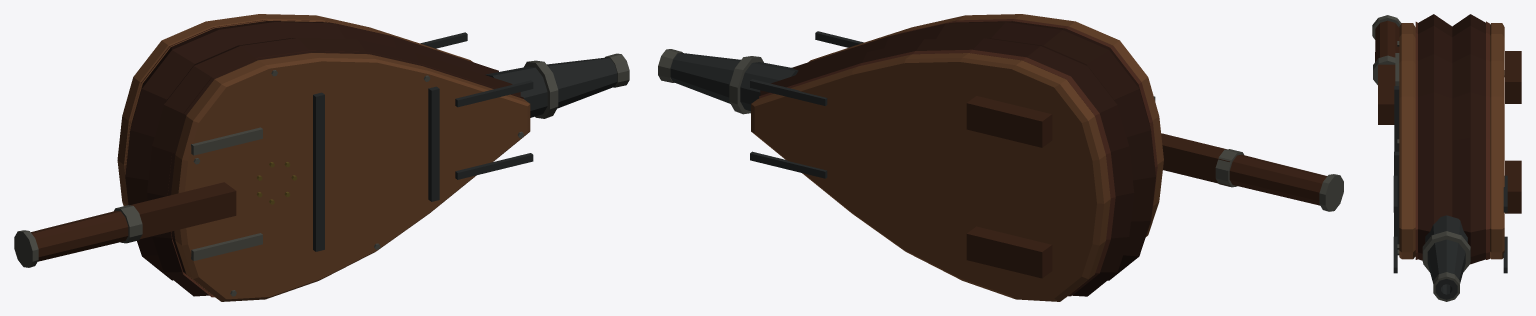
The model's file is SM_ForgeBellows_1348_LOD1.obj.
3 views of the same model, side by side, from view 1: azimuth 30°, elevation 25°; view 2: azimuth 150°, elevation 25°; view 3: azimuth 270°, elevation 25° (orthographic). The views are drawn at different scales.
Visible parts, largest first — view 1: moving_upper_board_top, full_pleated_leather, moving_upper_board_bevel, fixed_lower_board_bevel, upper_lever, turned_handle, open_nozzle_cone, cross_plate, pivot_iron_plates, nozzle_top_strap, front_plate, open_nozzle_base (+5 smaller); view 2: fixed_lower_board_bottom, full_pleated_leather, fixed_lower_board_bevel, wooden_foot_cleats, leather_reinforcement, moving_upper_board_bevel, turned_handle, open_nozzle_cone, upper_lever, nozzle_lower_strap, open_nozzle_base, handle_endcap (+2 smaller); view 3: full_pleated_leather, moving_upper_board_bevel, fixed_lower_board_bevel, wooden_foot_cleats, leather_reinforcement, open_nozzle_cone, upper_lever, turned_handle, open_nozzle_base, front_plate, nozzle_collar_lip, cross_plate (+9 smaller).
Boxes of the visible parts, x1,y1,x2,y2 form: moving_upper_board_top: (185,61,527,299); full_pleated_leather: (125,21,520,296); moving_upper_board_bevel: (171,53,530,301); fixed_lower_board_bevel: (117,14,472,205); upper_lever: (130,182,236,238); turned_handle: (31,210,128,261); open_nozzle_cone: (529,57,617,113); cross_plate: (313,92,324,251); pivot_iron_plates: (191,127,262,260); nozzle_top_strap: (455,80,533,179); front_plate: (428,86,439,201); open_nozzle_base: (486,66,546,117); fixed_lower_board_bottom: (754,62,1096,298); full_pleated_leather: (760,21,1155,296); fixed_lower_board_bevel: (751,53,1110,301); wooden_foot_cleats: (966,96,1052,278); leather_reinforcement: (759,19,1157,296); moving_upper_board_bevel: (808,14,1163,236); turned_handle: (1229,154,1327,205); open_nozzle_cone: (670,53,758,108); upper_lever: (1161,133,1229,186); nozzle_lower_strap: (750,79,827,178); open_nozzle_base: (740,62,797,111); handle_endcap: (1319,174,1343,211); full_pleated_leather: (1418,14,1485,264); moving_upper_board_bevel: (1399,23,1415,259); fixed_lower_board_bevel: (1490,23,1504,259); wooden_foot_cleats: (1505,51,1521,213); leather_reinforcement: (1415,21,1489,259); open_nozzle_cone: (1427,239,1465,284); upper_lever: (1378,64,1395,124); turned_handle: (1375,20,1399,61); open_nozzle_base: (1425,215,1467,242); front_plate: (1394,151,1399,244); nozzle_collar_lip: (1423,235,1469,272); cross_plate: (1394,86,1399,151).
Size of the model in its own units: 2.01 by 0.7519 by 0.4889.
